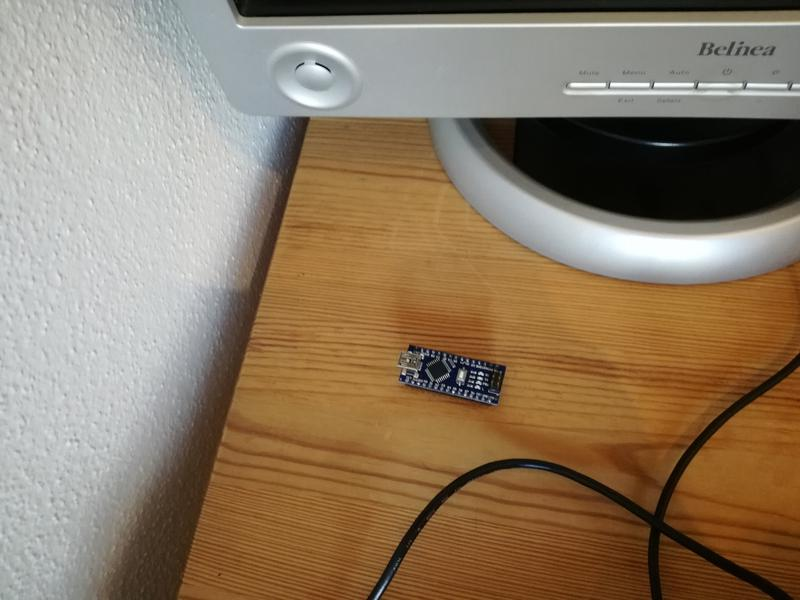Arduino_Nano: (393, 342, 509, 411)
